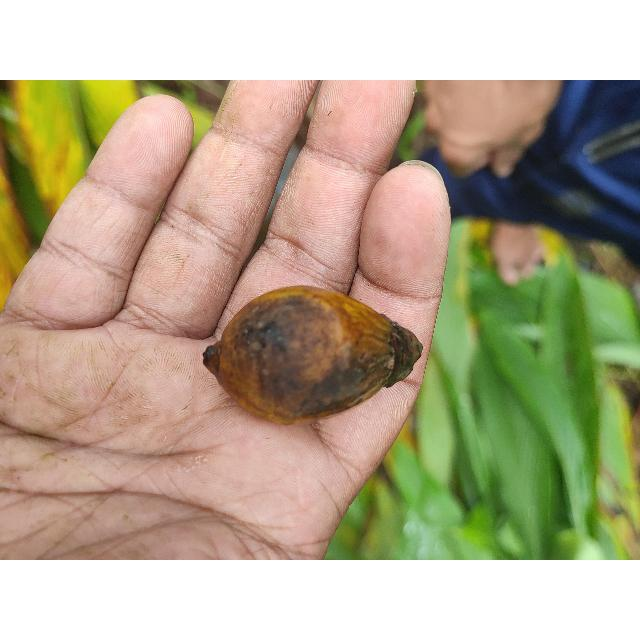damaged: (198, 282, 426, 428)
